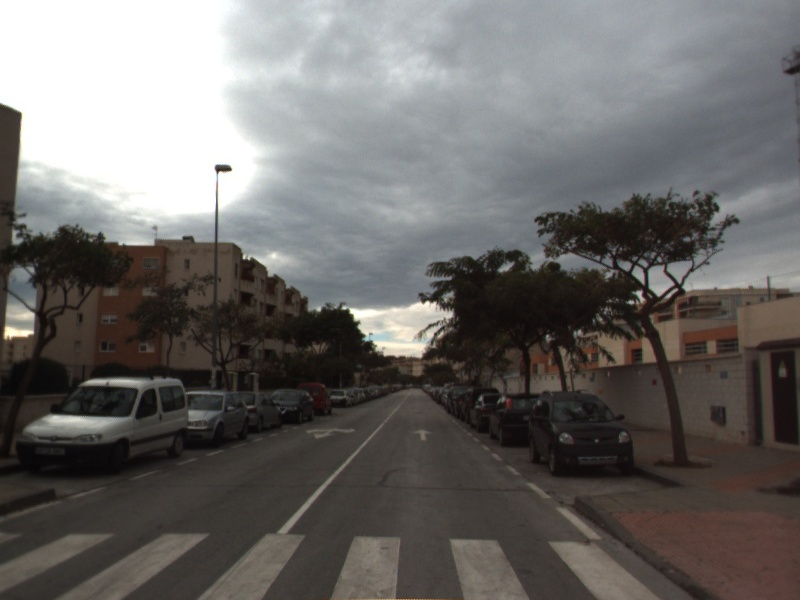STRAIGHT: (411, 427, 435, 442)
